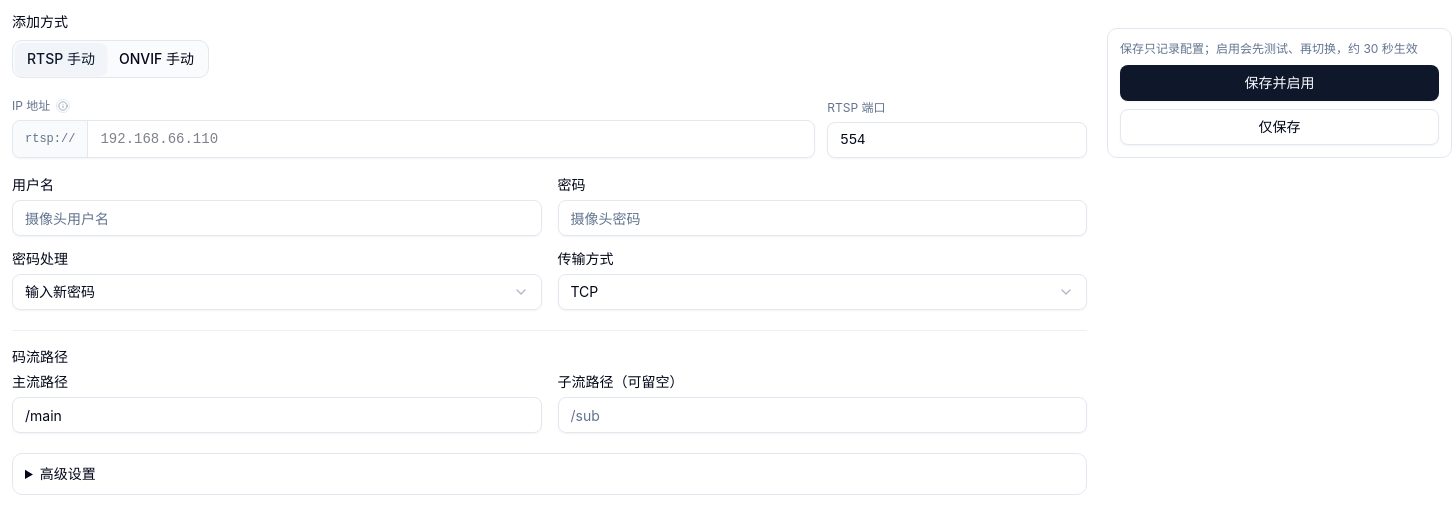
Scenario: a refused ONVIF probe explains itself and still refuses to save
Step 1. Click the button "ONVIF 手动" → (156, 59), box left=107, top=43, right=206, bottom=75
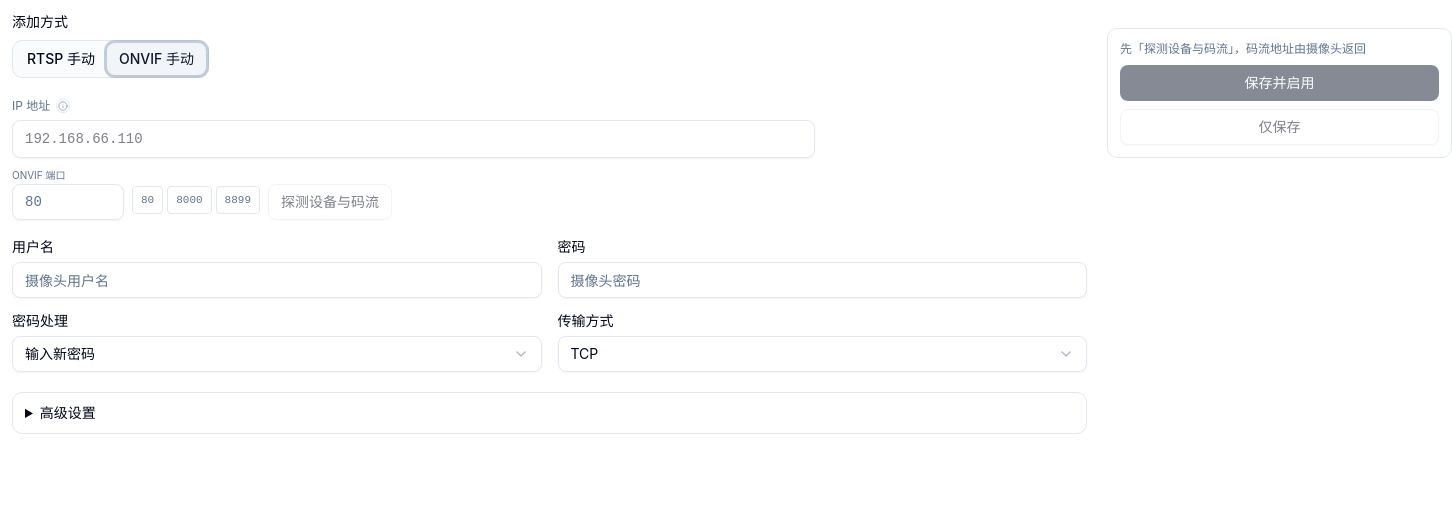
Step 2. Type "192.168.33.20" into the field labelled "IP 地址" → (414, 139), box left=13, top=121, right=814, bottom=157
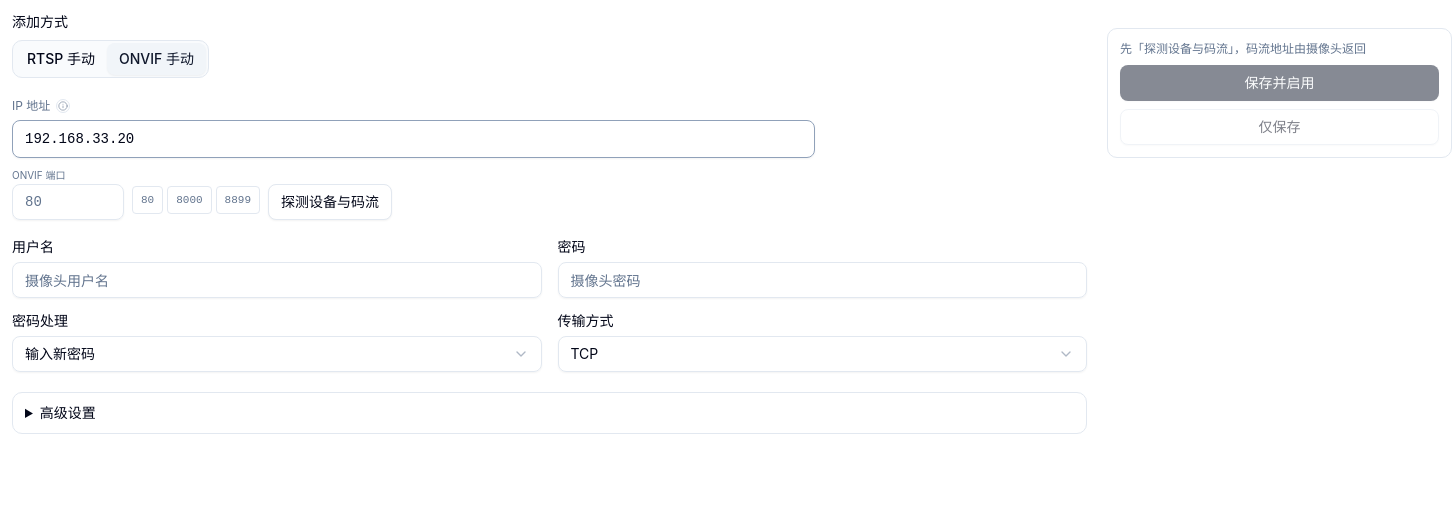
Step 3. Click the button "探测设备与码流" → (330, 202), box left=268, top=184, right=392, bottom=220
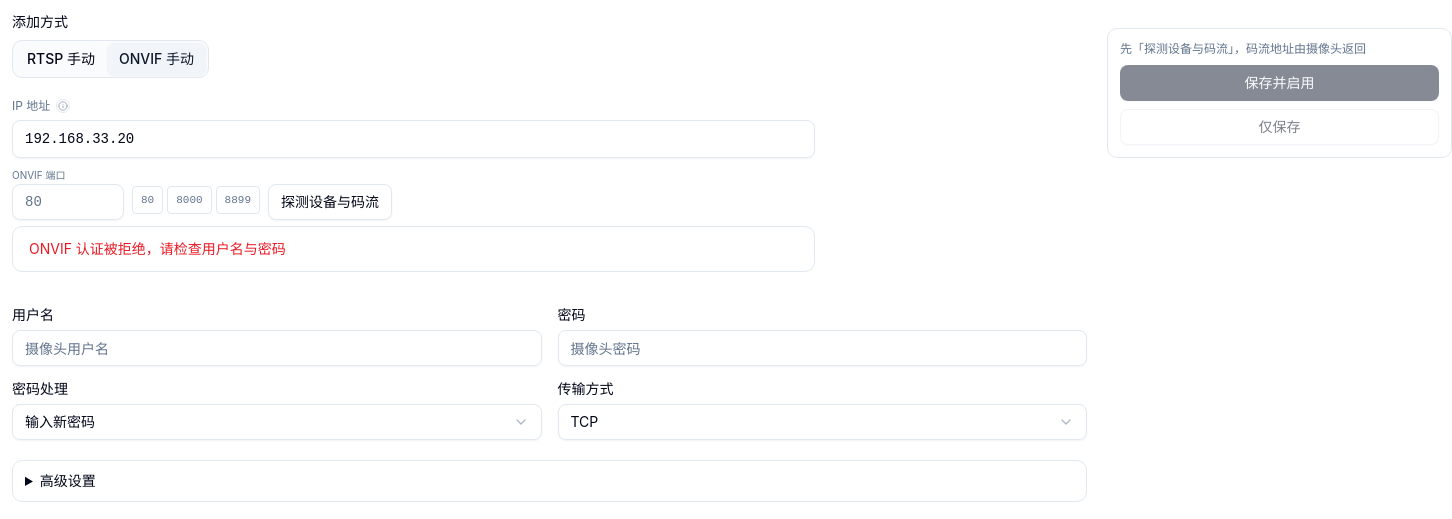
Now the button "仅保存" is disabled, box left=1120, top=109, right=1439, bottom=145
Now the text "ONVIF 认证被拒绝，请检查用户名与密码" is shown, box left=29, top=240, right=286, bottom=257
